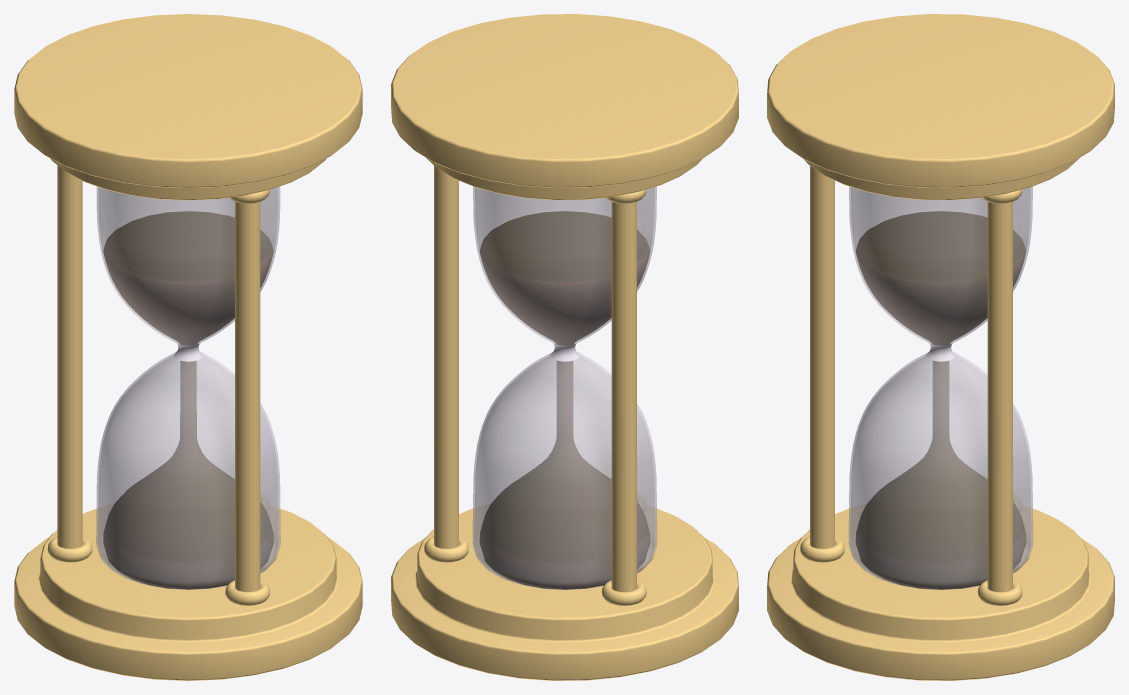
The model's file is Hourglass.gltf.
The picture shows the model from 3 angles, left to right: view 1: azimuth 30°, elevation 25°; view 2: azimuth 150°, elevation 25°; view 3: azimuth 270°, elevation 25°; orthographic projection.
Visible parts, largest first — view 1: hourglass_frame, hourglass_glass, hourglass_sand; view 2: hourglass_frame, hourglass_glass, hourglass_sand; view 3: hourglass_frame, hourglass_glass, hourglass_sand.
Boxes of the visible parts, left/top/right/bottom form: hourglass_frame: left=14, top=14, right=362, bottom=680; hourglass_glass: left=96, top=186, right=280, bottom=589; hourglass_sand: left=103, top=211, right=273, bottom=589; hourglass_frame: left=391, top=14, right=738, bottom=680; hourglass_glass: left=472, top=186, right=657, bottom=589; hourglass_sand: left=480, top=211, right=649, bottom=589; hourglass_frame: left=767, top=14, right=1114, bottom=680; hourglass_glass: left=848, top=186, right=1033, bottom=589; hourglass_sand: left=856, top=211, right=1025, bottom=589.
Bounding box in the file's own units: 0.8355 × 1.39 × 0.8355.
2 materials, 2 textured.
